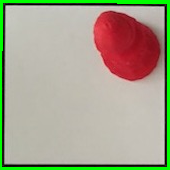Red Bishop: (87, 8, 162, 83)
